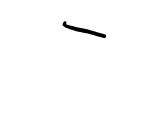minus: (62, 21, 106, 39)
